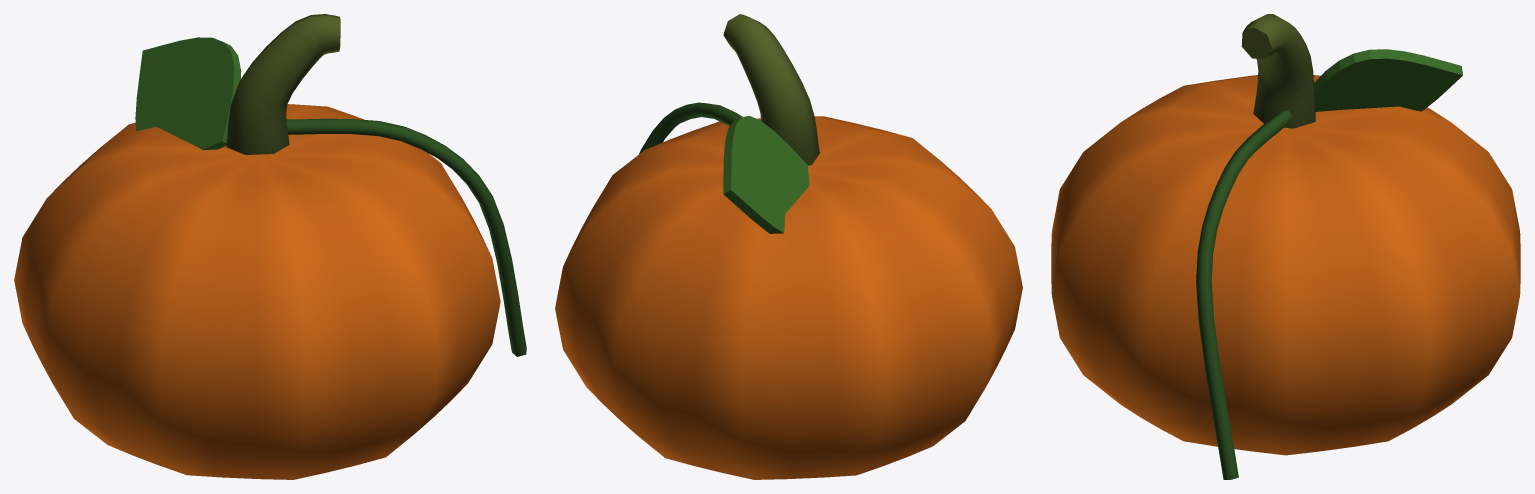
File: 0babe219-135a-4827-9081-d3669e36d460.glb
The picture shows the model from 3 angles, left to right: view 1: azimuth 30°, elevation 25°; view 2: azimuth 150°, elevation 25°; view 3: azimuth 270°, elevation 25°; orthographic projection. The views are drawn at different scales.
Parts seen in each view (by area): view 1: Pumpkin; view 2: Pumpkin; view 3: Pumpkin.
Boxes of the visible parts, <box> form: Pumpkin: <box>14,14,526,479</box>; Pumpkin: <box>555,14,1022,479</box>; Pumpkin: <box>1051,14,1520,479</box>.
Bounding box in the file's own units: 0.9645 × 0.8289 × 0.8585.
